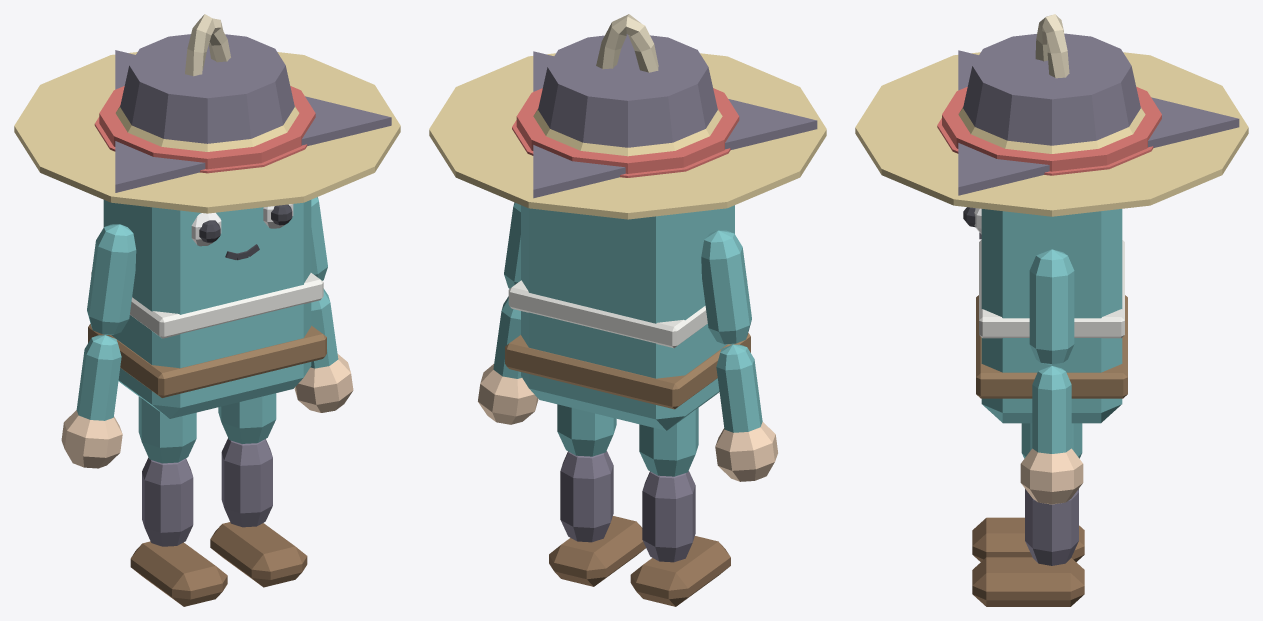
File: brick.fbx
3 views of the same model, side by side, from view 1: azimuth 30°, elevation 25°; view 2: azimuth 150°, elevation 25°; view 3: azimuth 270°, elevation 25° (orthographic). The views are drawn at different scales.
Parts seen in each view (by area): view 1: Brick_Body, Brick_Hat_StrawBrim, Brick_Hat_TricornCrown, Brick_Belt, Brick_Hat_TricornBrim, Brick_Hat_StrawBand, Brick_UpperArm_R, Brick_Foot_R, Brick_Foot_L, Brick_LowerLeg_R, Brick_LowerLeg_L, Brick_Stripe (+10 smaller); view 2: Brick_Body, Brick_Hat_StrawBrim, Brick_Hat_TricornCrown, Brick_Belt, Brick_Hat_TricornBrim, Brick_Hat_StrawBand, Brick_UpperArm_R, Brick_LowerLeg_L, Brick_LowerLeg_R, Brick_Stripe, Brick_Foot_R, Brick_Foot_L (+10 smaller); view 3: Brick_Hat_StrawBrim, Brick_Body, Brick_Hat_TricornCrown, Brick_Hat_TricornBrim, Brick_Foot_L, Brick_UpperArm_L, Brick_Hat_StrawBand, Brick_Belt, Brick_LowerArm_L, Brick_LowerLeg_L, Brick_Hand_L, Brick_Stripe (+5 smaller).
Boxes of the visible parts, x1,y1,x2,y2 form: Brick_Body: [103, 200, 311, 418]; Brick_Hat_StrawBrim: [14, 52, 400, 213]; Brick_Hat_TricornCrown: [120, 34, 294, 143]; Brick_Belt: [88, 324, 326, 397]; Brick_Hat_TricornBrim: [115, 50, 391, 192]; Brick_Hat_StrawBand: [99, 86, 315, 169]; Brick_UpperArm_R: [87, 224, 136, 334]; Brick_Foot_R: [130, 541, 227, 606]; Brick_Foot_L: [210, 522, 307, 587]; Brick_LowerLeg_R: [142, 457, 193, 546]; Brick_LowerLeg_L: [221, 438, 272, 527]; Brick_Stripe: [91, 271, 323, 338]; Brick_Body: [521, 205, 734, 430]; Brick_Hat_StrawBrim: [429, 53, 826, 219]; Brick_Hat_TricornCrown: [538, 34, 717, 147]; Brick_Belt: [505, 333, 750, 409]; Brick_Hat_TricornBrim: [533, 51, 817, 198]; Brick_Hat_StrawBand: [516, 88, 739, 173]; Brick_UpperArm_R: [701, 230, 751, 344]; Brick_LowerLeg_L: [560, 451, 613, 542]; Brick_LowerLeg_R: [642, 471, 695, 562]; Brick_Stripe: [508, 279, 747, 348]; Brick_Foot_R: [630, 536, 730, 606]; Brick_Foot_L: [549, 516, 645, 586]; Brick_Hat_StrawBrim: [855, 52, 1248, 216]; Brick_Body: [981, 209, 1122, 423]; Brick_Hat_TricornCrown: [963, 33, 1140, 145]; Brick_Hat_TricornBrim: [958, 50, 1239, 195]; Brick_Foot_L: [972, 557, 1084, 606]; Brick_UpperArm_L: [1029, 249, 1074, 365]; Brick_Hat_StrawBand: [942, 87, 1161, 171]; Brick_Belt: [976, 295, 1127, 398]; Brick_LowerArm_L: [1032, 366, 1071, 453]; Brick_LowerLeg_L: [1025, 490, 1078, 565]; Brick_Hand_L: [1020, 448, 1083, 504]; Brick_Stripe: [979, 240, 1124, 338].
Size of the model in its own units: 0.84 by 1.33 by 0.84.
